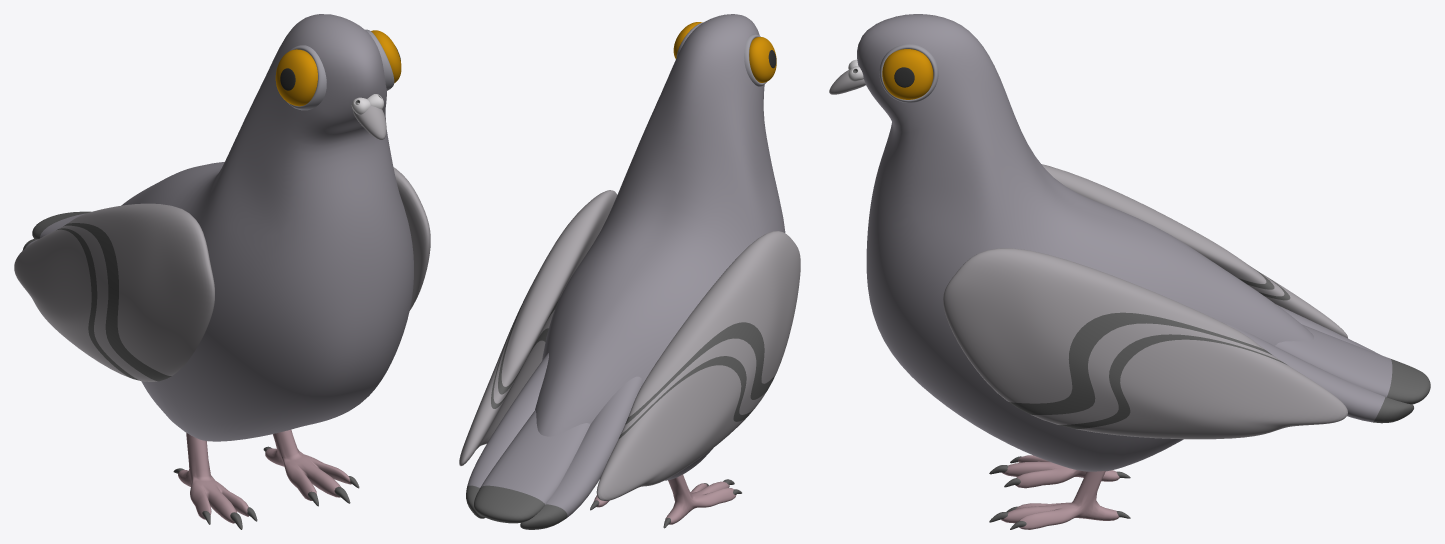
Rendered from enemie.fbx.
The picture shows the model from 3 angles, left to right: view 1: azimuth 30°, elevation 25°; view 2: azimuth 150°, elevation 25°; view 3: azimuth 270°, elevation 25°; orthographic projection. The views are drawn at different scales.
Visible parts, largest first — view 1: polySurface71, polySurface74, polySurface69, polySurface70, polySurface73, polySurface76, polySurface68, polySurface72, polySurface56, polySurface75; view 2: polySurface71, polySurface74, polySurface72, polySurface73, polySurface69, polySurface76; view 3: polySurface71, polySurface73, polySurface72, polySurface74, polySurface70, polySurface75, polySurface69, polySurface67.
Part boxes in pixels (x1,y1,x2,y2): polySurface71: (121, 14, 413, 441); polySurface74: (14, 203, 214, 381); polySurface69: (178, 433, 249, 523); polySurface70: (265, 429, 351, 500); polySurface73: (393, 167, 430, 310); polySurface76: (275, 49, 317, 106); polySurface68: (287, 45, 326, 110); polySurface72: (22, 211, 91, 250); polySurface56: (353, 105, 386, 139); polySurface75: (371, 30, 401, 82); polySurface71: (535, 14, 785, 480); polySurface74: (596, 231, 800, 500); polySurface72: (466, 353, 642, 529); polySurface73: (459, 190, 617, 465); polySurface69: (665, 474, 736, 524); polySurface76: (749, 37, 776, 82); polySurface71: (857, 14, 1313, 471); polySurface73: (943, 248, 1347, 439); polySurface72: (1225, 304, 1430, 423); polySurface74: (1041, 164, 1347, 338); polySurface70: (1001, 471, 1119, 529); polySurface75: (882, 49, 933, 99); polySurface69: (1002, 455, 1119, 488); polySurface67: (879, 44, 938, 102).
Bounding box in the file's own units: 4.51 × 8.44 × 9.51.
